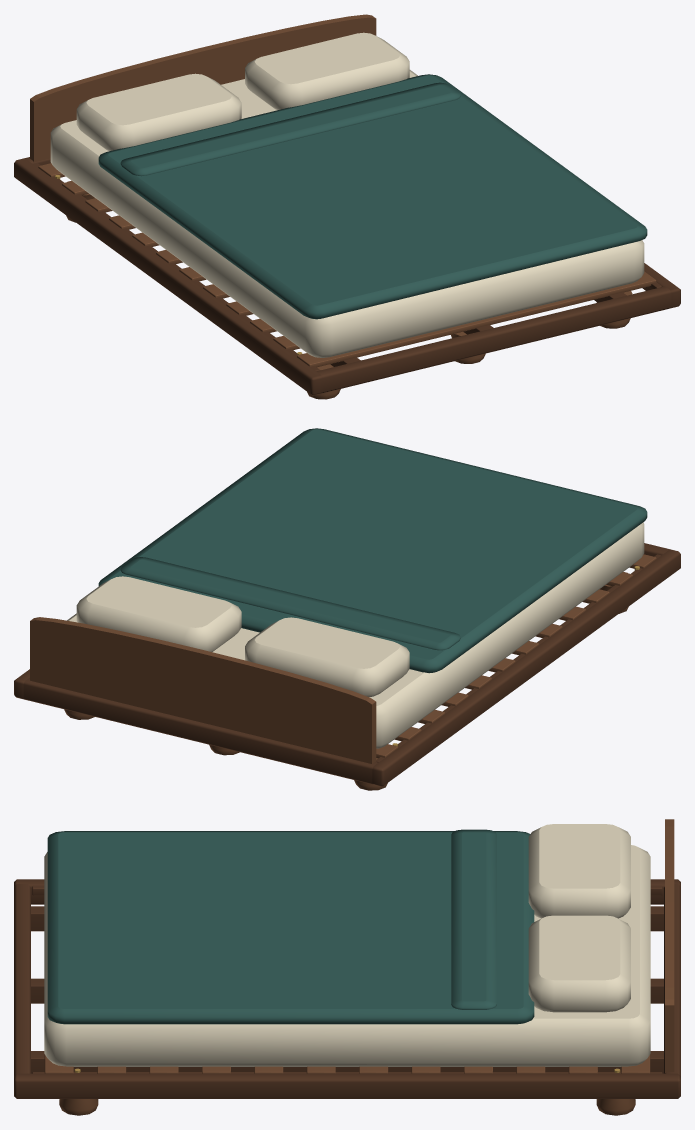
File: rpg-mansion-low-platform-double-bed-01.glb
3 renders of one model, top to bottom at view 1: azimuth 30°, elevation 25°; view 2: azimuth 150°, elevation 25°; view 3: azimuth 270°, elevation 25°, orthographic. The views are drawn at different scales.
Parts seen in each view (by area): view 1: rpg-mansion-low-platform-double-bed-01; view 2: rpg-mansion-low-platform-double-bed-01; view 3: rpg-mansion-low-platform-double-bed-01.
Boxes of the visible parts, x1,y1,x2,y2 form: rpg-mansion-low-platform-double-bed-01: (14, 14, 680, 399); rpg-mansion-low-platform-double-bed-01: (14, 428, 680, 790); rpg-mansion-low-platform-double-bed-01: (14, 819, 680, 1115).
Size of the model in its own units: 1.56 by 0.46 by 2.18.
